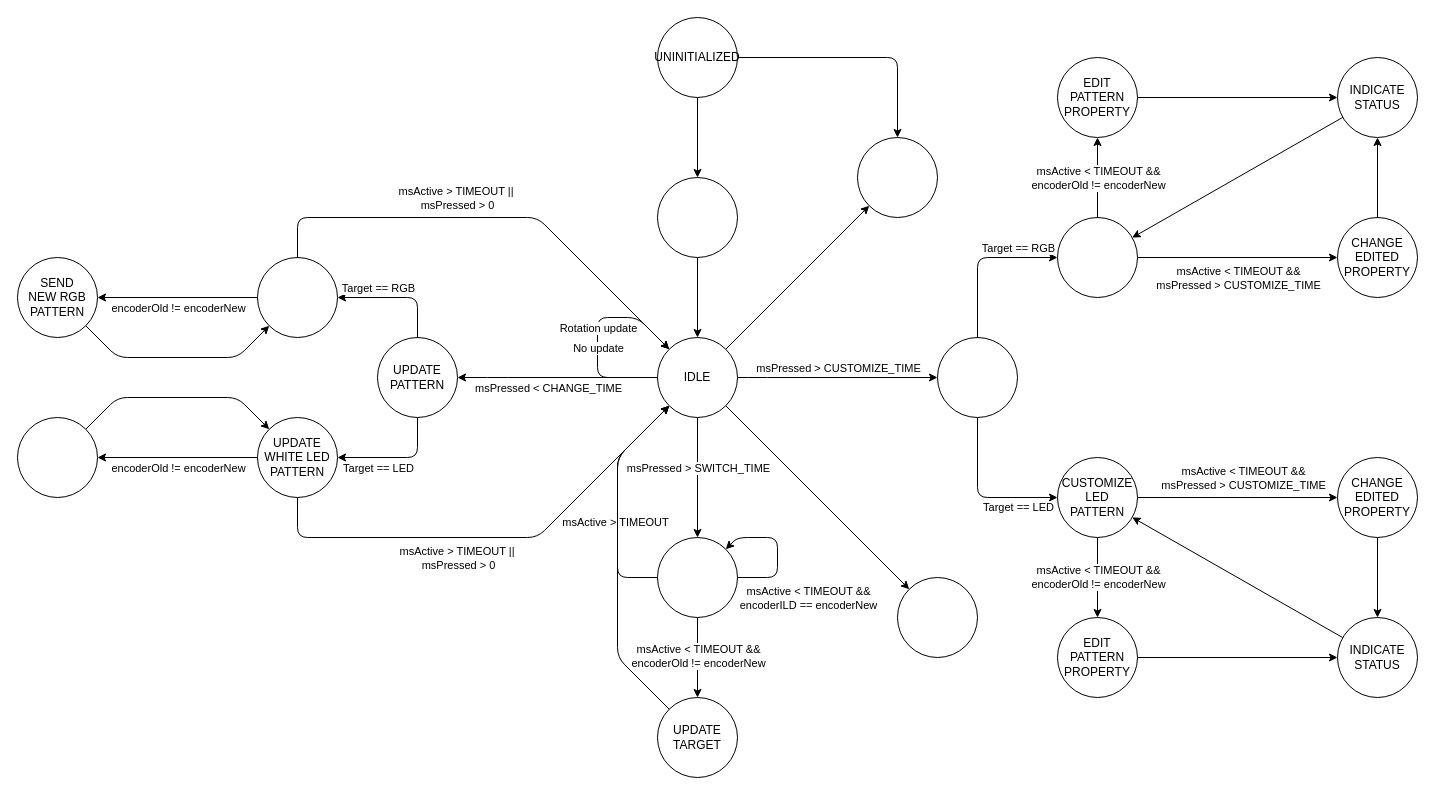
This 1435x795 diagram has some shape labels left out. Here are the shapes that lost their labels. From the top down, the box of each, then its label:
(856, 136, 938, 218): FAULT
(656, 176, 738, 258): INITIALIZED
(1056, 216, 1138, 298): CUSTOMIZE RGB PATTERN
(256, 256, 338, 338): UPDATE RGB PATTERN
(936, 336, 1018, 418): CUSTOMIZE PATTERN
(16, 416, 98, 498): SEND NEW LED PATTERN
(656, 536, 738, 618): CHANGE TARGET
